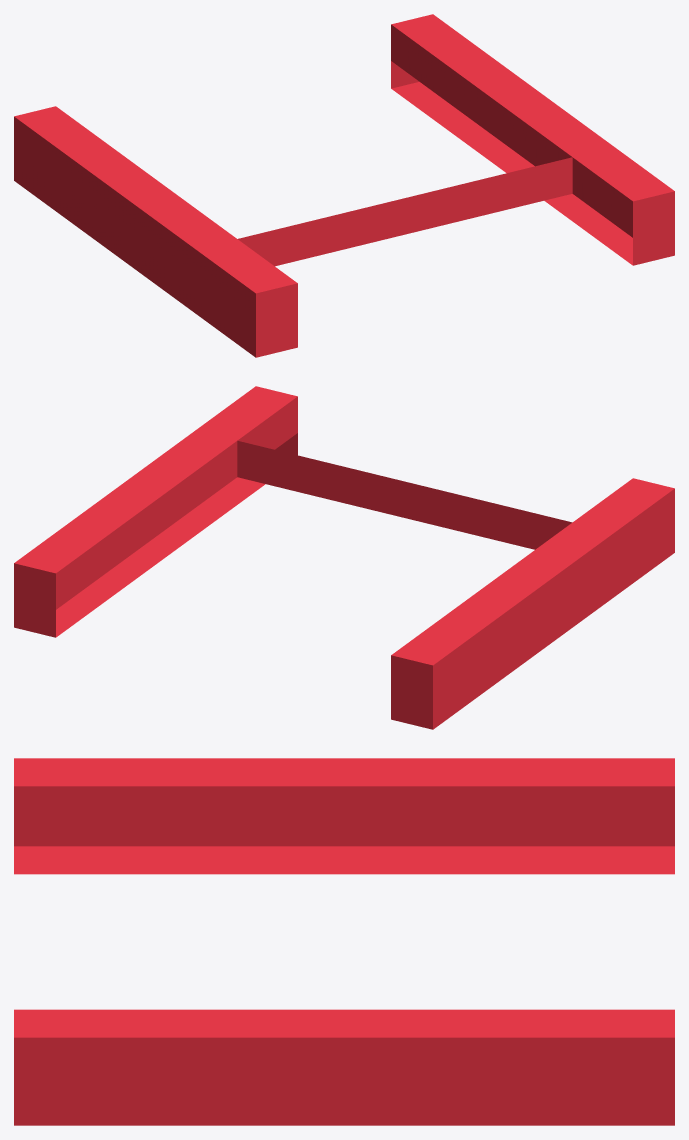
The model's file is RampSharp (Wall).fbx.
The picture shows the model from 3 angles, top to bottom: view 1: azimuth 30°, elevation 25°; view 2: azimuth 150°, elevation 25°; view 3: azimuth 270°, elevation 25°; orthographic projection. The views are drawn at different scales.
Visible parts, largest first — view 1: rampSharp; view 2: rampSharp; view 3: rampSharp.
Boxes of the visible parts, x1,y1,x2,y2 form: rampSharp: (14, 14, 674, 357); rampSharp: (14, 386, 674, 729); rampSharp: (14, 758, 674, 1125).
Bounding box in the file's own units: 39.37 × 5.77 × 39.37.
